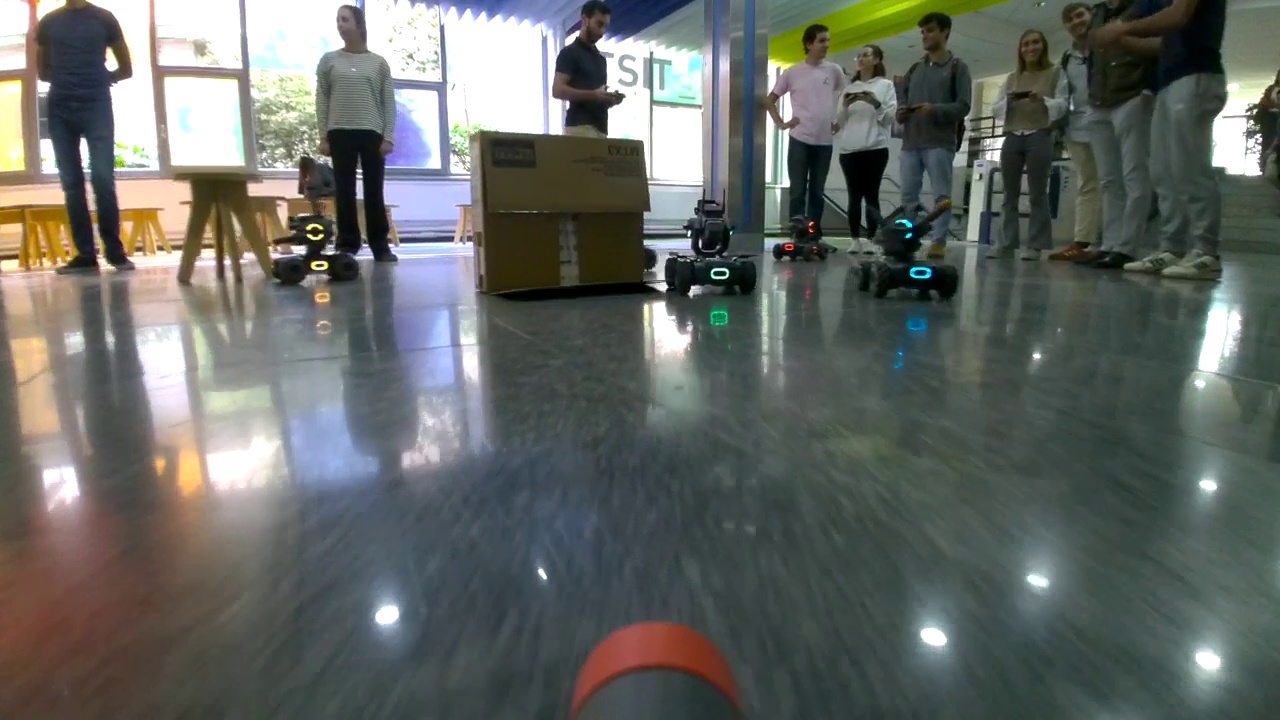robot: (858, 197, 962, 305), (660, 189, 764, 296), (258, 211, 371, 284), (772, 208, 836, 262)
